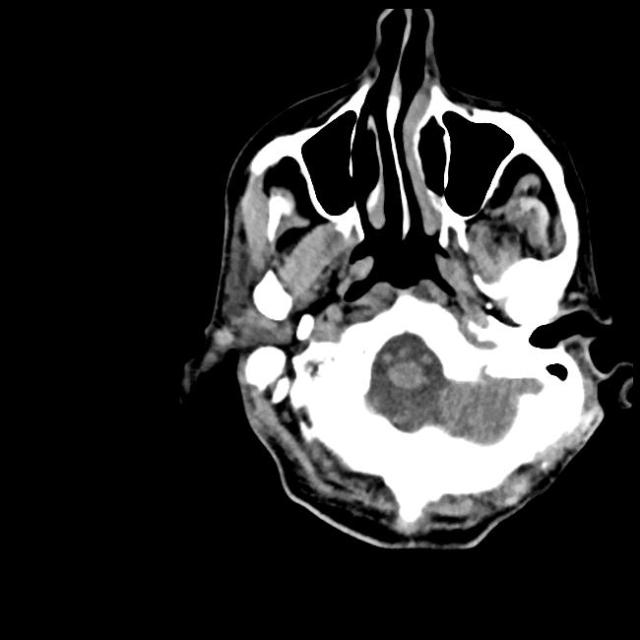lesion: (178, 7, 631, 553)
